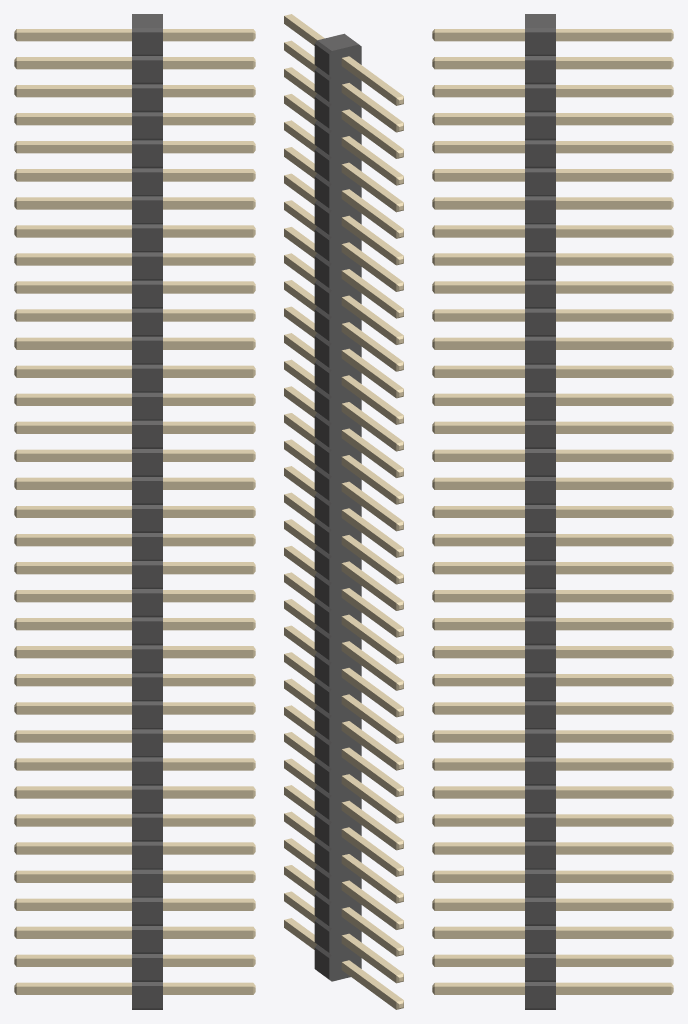
The model's file is PinHeader_1x35_P1.00mm_Vertical.glb.
3 views of the same model, side by side, from view 1: azimuth 90°, elevation 25°; view 2: azimuth 210°, elevation 25°; view 3: azimuth 270°, elevation 25° (orthographic). The views are drawn at different scales.
Visible parts, largest first — view 1: Shape_IndexedFaceSet.383, Shape_IndexedFaceSet.418, Shape_IndexedFaceSet.357, Shape_IndexedFaceSet.358, Shape_IndexedFaceSet.365, Shape_IndexedFaceSet.367, Shape_IndexedFaceSet.371, Shape_IndexedFaceSet.375, Shape_IndexedFaceSet.379, Shape_IndexedFaceSet.439, Shape_IndexedFaceSet.442, Shape_IndexedFaceSet.449 (+112 smaller); view 2: Shape_IndexedFaceSet.004, Shape_IndexedFaceSet.369, Shape_IndexedFaceSet.417, Shape_IndexedFaceSet.441, Shape_IndexedFaceSet.409, Shape_IndexedFaceSet.420, Shape_IndexedFaceSet.468, Shape_IndexedFaceSet.360, Shape_IndexedFaceSet.381, Shape_IndexedFaceSet.396, Shape_IndexedFaceSet.444, Shape_IndexedFaceSet.452 (+95 smaller); view 3: Shape_IndexedFaceSet.385, Shape_IndexedFaceSet.420, Shape_IndexedFaceSet.355, Shape_IndexedFaceSet.360, Shape_IndexedFaceSet.363, Shape_IndexedFaceSet.369, Shape_IndexedFaceSet.373, Shape_IndexedFaceSet.377, Shape_IndexedFaceSet.381, Shape_IndexedFaceSet.441, Shape_IndexedFaceSet.444, Shape_IndexedFaceSet.447 (+112 smaller).
Part boxes in pixels (x1,y1,x2,y2): Shape_IndexedFaceSet.383: (16, 537, 131, 546); Shape_IndexedFaceSet.418: (16, 32, 131, 41); Shape_IndexedFaceSet.357: (16, 874, 131, 882); Shape_IndexedFaceSet.358: (16, 846, 131, 854); Shape_IndexedFaceSet.365: (16, 818, 131, 826); Shape_IndexedFaceSet.367: (16, 734, 131, 742); Shape_IndexedFaceSet.371: (16, 762, 131, 770); Shape_IndexedFaceSet.375: (16, 790, 131, 798); Shape_IndexedFaceSet.379: (16, 706, 131, 714); Shape_IndexedFaceSet.439: (16, 173, 131, 181); Shape_IndexedFaceSet.442: (16, 313, 131, 321); Shape_IndexedFaceSet.449: (16, 285, 131, 293); Shape_IndexedFaceSet.004: (329, 44, 361, 981); Shape_IndexedFaceSet.369: (341, 723, 396, 770); Shape_IndexedFaceSet.417: (341, 457, 396, 504); Shape_IndexedFaceSet.441: (341, 191, 396, 238); Shape_IndexedFaceSet.409: (341, 510, 396, 557); Shape_IndexedFaceSet.420: (341, 58, 396, 105); Shape_IndexedFaceSet.468: (341, 377, 396, 424); Shape_IndexedFaceSet.360: (341, 829, 396, 876); Shape_IndexedFaceSet.381: (341, 696, 396, 743); Shape_IndexedFaceSet.396: (341, 643, 396, 690); Shape_IndexedFaceSet.444: (341, 324, 396, 371); Shape_IndexedFaceSet.452: (341, 271, 396, 318); Shape_IndexedFaceSet.385: (556, 537, 671, 546); Shape_IndexedFaceSet.420: (556, 32, 671, 41); Shape_IndexedFaceSet.355: (556, 874, 671, 882); Shape_IndexedFaceSet.360: (556, 846, 671, 854); Shape_IndexedFaceSet.363: (556, 818, 671, 826); Shape_IndexedFaceSet.369: (556, 734, 671, 742); Shape_IndexedFaceSet.373: (556, 762, 671, 770); Shape_IndexedFaceSet.377: (556, 790, 671, 798); Shape_IndexedFaceSet.381: (556, 706, 671, 714); Shape_IndexedFaceSet.441: (556, 173, 671, 181); Shape_IndexedFaceSet.444: (556, 313, 671, 321); Shape_IndexedFaceSet.447: (556, 285, 671, 293).
Bounding box in the file's own units: 0.5 × 13.78 × 3.07.
